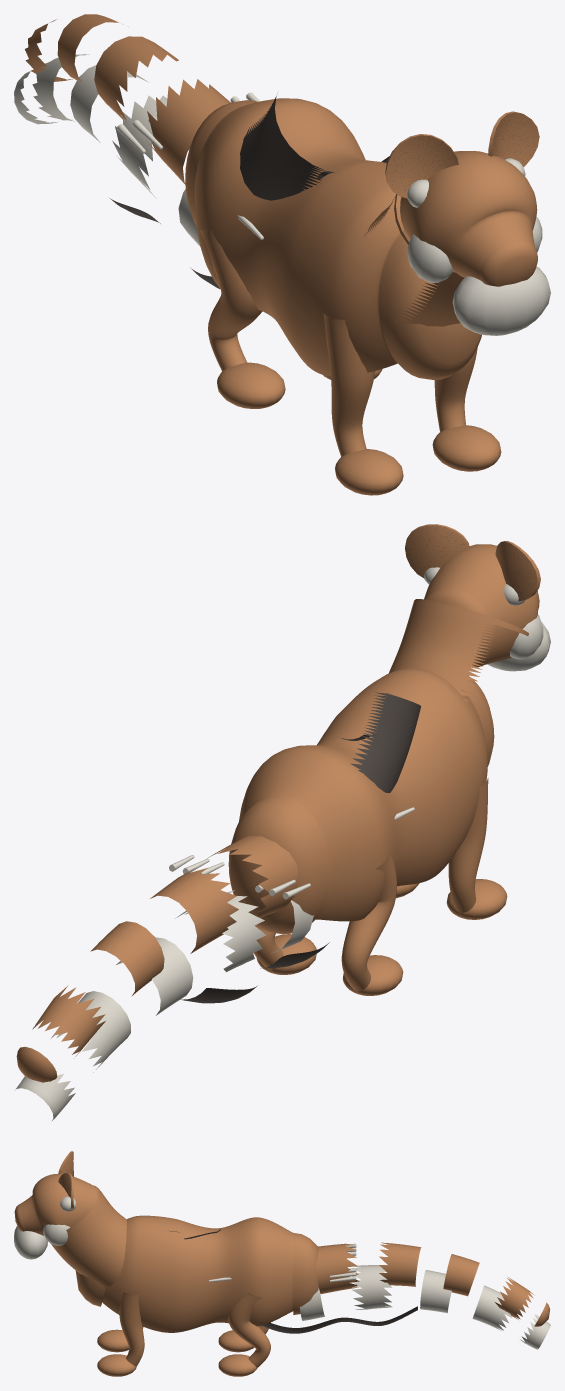
The model's file is other-red-panda.glb.
3 views of the same model, one above another, from view 1: azimuth 30°, elevation 25°; view 2: azimuth 150°, elevation 25°; view 3: azimuth 270°, elevation 25° (orthographic). The views are drawn at different scales.
Parts seen in each view (by area): view 1: red-panda; view 2: red-panda; view 3: red-panda.
Boxes of the visible parts, bbox=[...] form: red-panda: bbox=[14, 14, 550, 495]; red-panda: bbox=[15, 524, 550, 1121]; red-panda: bbox=[14, 1151, 550, 1376].
Bounding box in the file's own units: 5618 × 13057 × 32005.
Materials: 6 (3 with a texture image).
